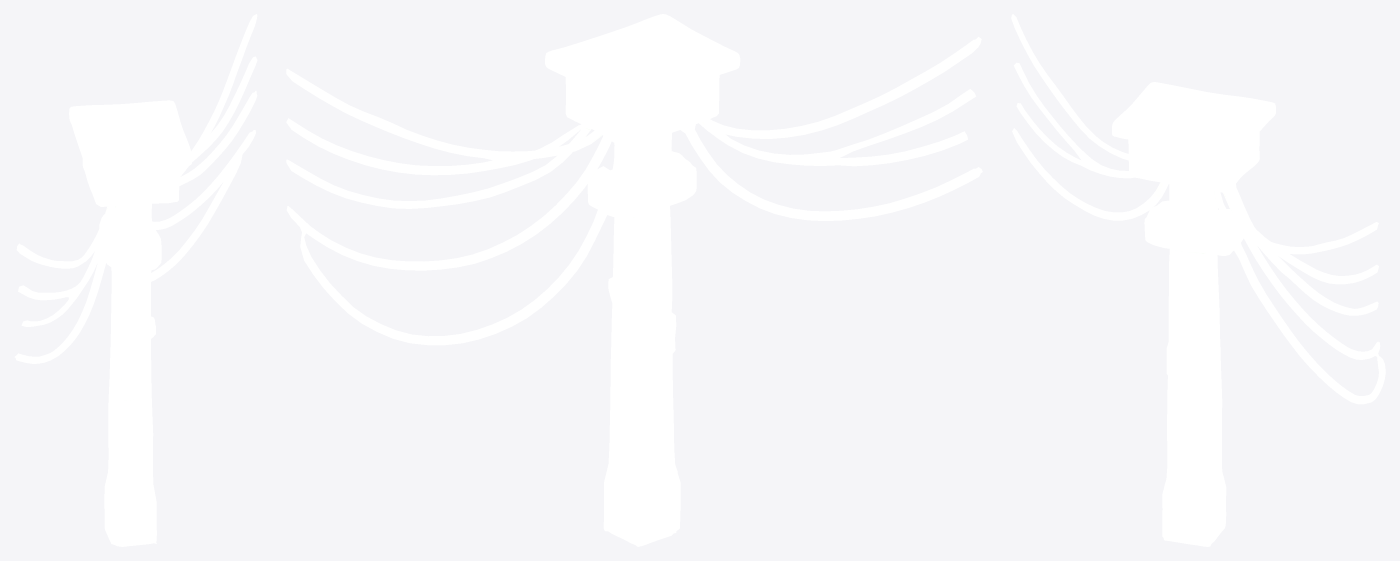
The model's file is random_asian_object.glb.
3 renders of one model, left to right at view 1: azimuth 30°, elevation 25°; view 2: azimuth 150°, elevation 25°; view 3: azimuth 270°, elevation 25°, orthographic. The views are drawn at different scales.
Parts seen in each view (by area): view 1: tripo_node_ef28e6c5; view 2: tripo_node_ef28e6c5; view 3: tripo_node_ef28e6c5.
Part boxes in pixels (box(x1,y1,x2,y2)): tripo_node_ef28e6c5: box(14, 14, 257, 546); tripo_node_ef28e6c5: box(286, 14, 982, 546); tripo_node_ef28e6c5: box(1011, 14, 1385, 546).
Bounding box in the file's own units: 4.29 × 3.99 × 3.21.
1 material, 1 textured.
